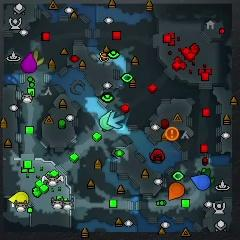Other: (165, 127, 179, 141)
p1: (190, 174, 211, 191)
p2: (100, 110, 113, 130)
p3: (21, 53, 37, 73)
p4: (8, 191, 29, 205)
p5: (168, 182, 185, 202)
x2: (33, 49, 45, 67)
x3: (108, 111, 125, 129)
x4: (197, 169, 214, 184)
